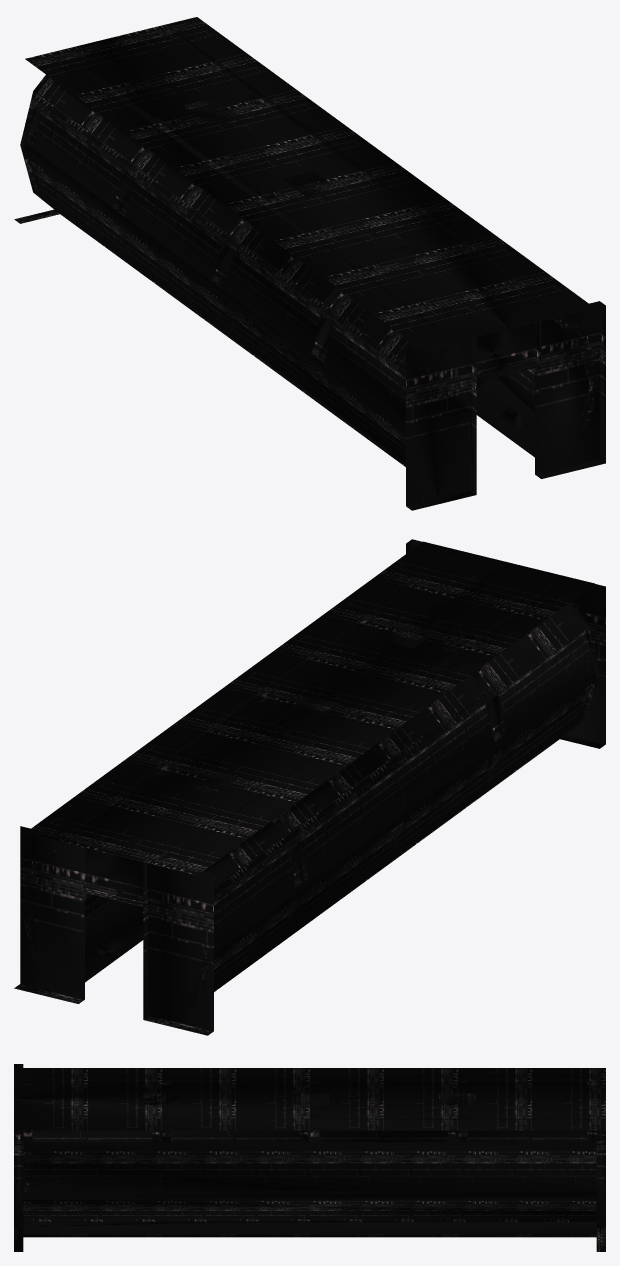
The model's file is tunnel_opt.obj.
3 views of the same model, one above another, from view 1: azimuth 30°, elevation 25°; view 2: azimuth 150°, elevation 25°; view 3: azimuth 270°, elevation 25° (orthographic). The views are drawn at different scales.
Bounding box in the file's own units: 28.8 × 22.5 × 102.
Materials: 6 (6 with a texture image).
